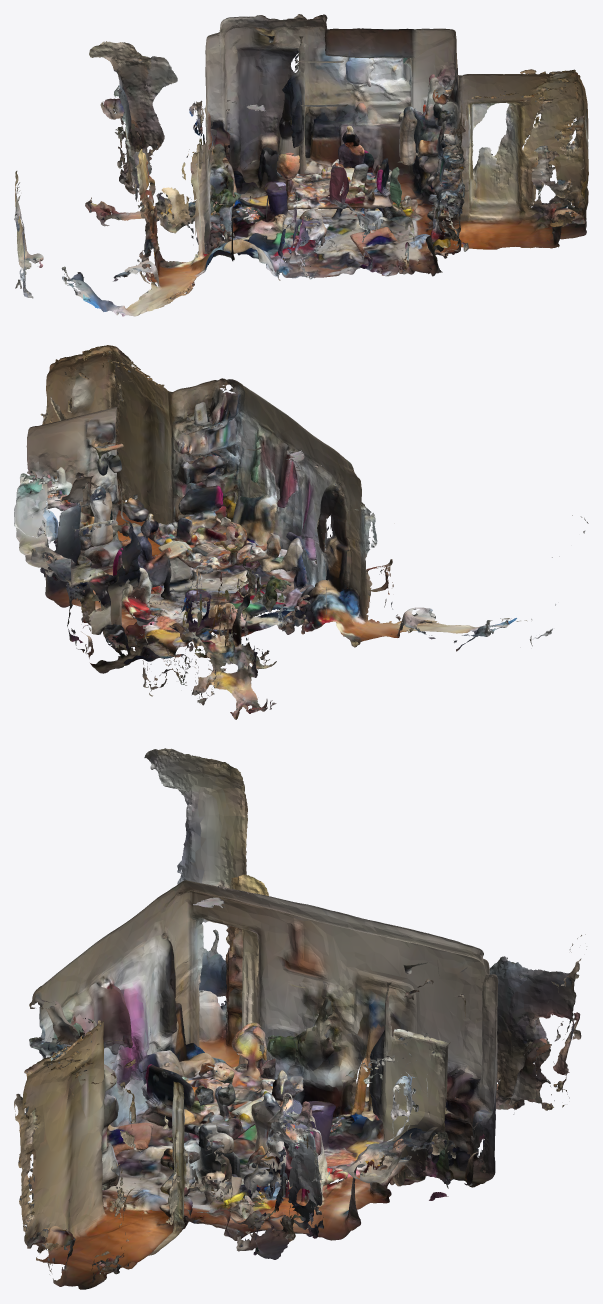
File: MOMOCO WEB.glb
The picture shows the model from 3 angles, top to bottom: view 1: azimuth 30°, elevation 25°; view 2: azimuth 150°, elevation 25°; view 3: azimuth 270°, elevation 25°; orthographic projection. The views are drawn at different scales.
Visible parts, largest first — view 1: mesh; view 2: mesh; view 3: mesh.
Boxes of the visible parts, <box> form: mesh: <box>14,14,588,316</box>; mesh: <box>14,345,588,719</box>; mesh: <box>14,748,586,1289</box>.
Size of the model in its own units: 8.79 by 2.64 by 5.87.
1 material, 1 textured.
